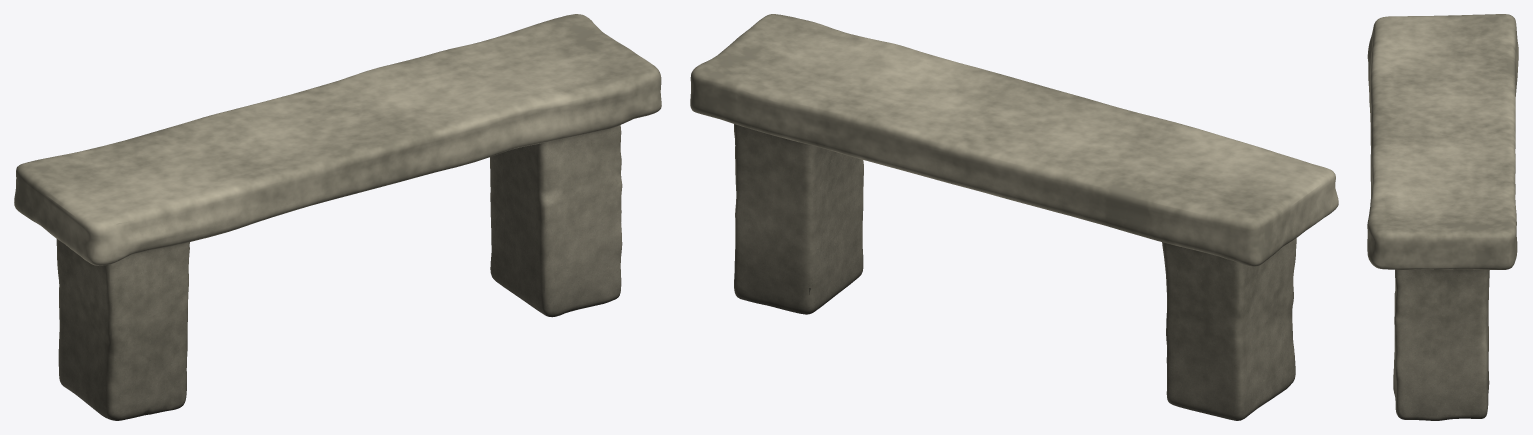
Rendered from stone-bench-v002.glb.
3 views of the same model, side by side, from view 1: azimuth 30°, elevation 25°; view 2: azimuth 150°, elevation 25°; view 3: azimuth 270°, elevation 25° (orthographic). The views are drawn at different scales.
Parts seen in each view (by area): view 1: stone-bench; view 2: stone-bench; view 3: stone-bench.
Boxes of the visible parts, x1,y1,x2,y2 form: stone-bench: (14,14,661,420); stone-bench: (690,14,1338,420); stone-bench: (1367,14,1518,420).
Size of the model in its own units: 1.14 by 0.45 by 0.309.
1 material, 1 textured.
